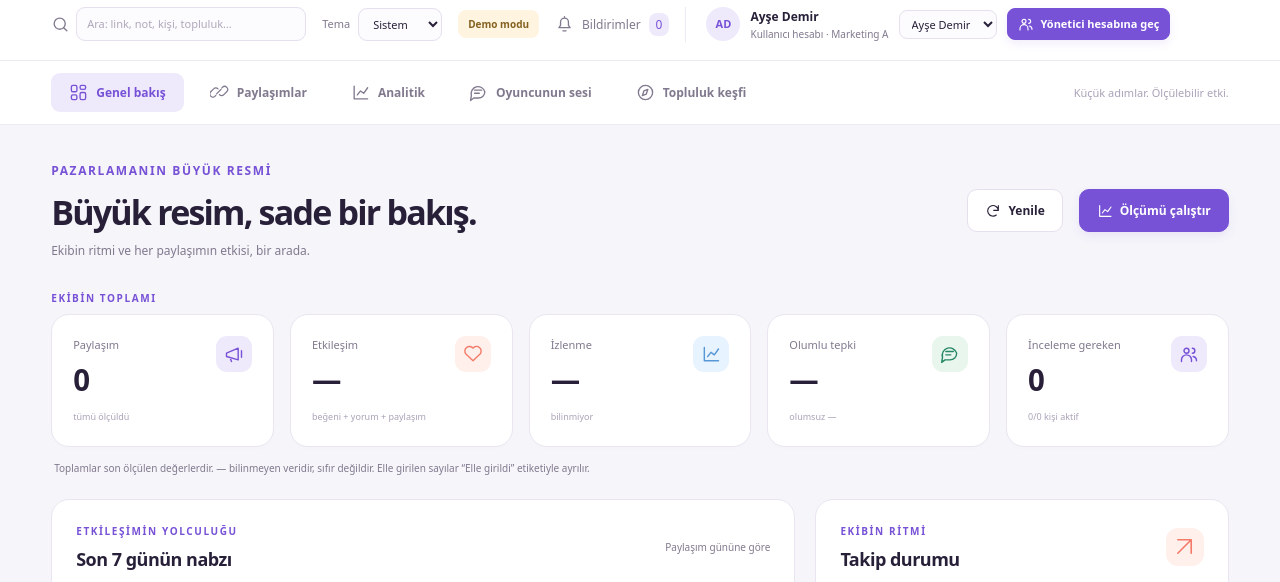
Test: master prompt features › shows a team manager the whole team in the user account
Select "Deniz Acar" in the dropdown named "Hesap" at (948, 24), box left=898, top=10, right=996, bottom=39
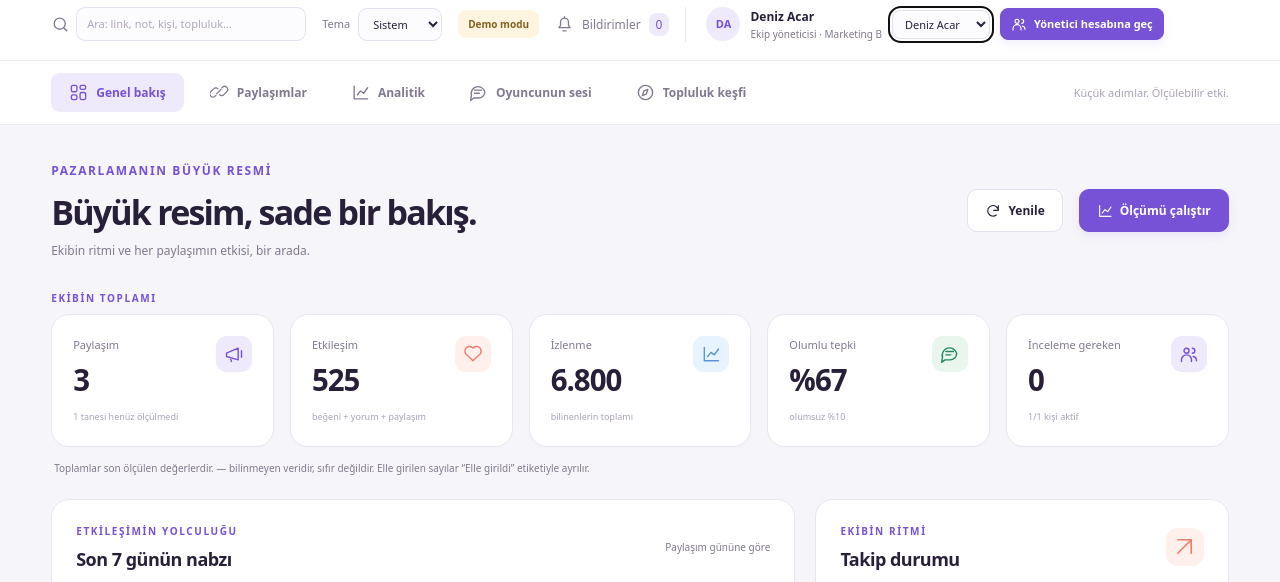
Expected: the text "Ekip yöneticisi · Marketing B" is shown, left=750, top=26, right=882, bottom=42
Click the button "Paylaşımlar".
click(258, 92)  # box left=192, top=73, right=325, bottom=112
(page scrolled)
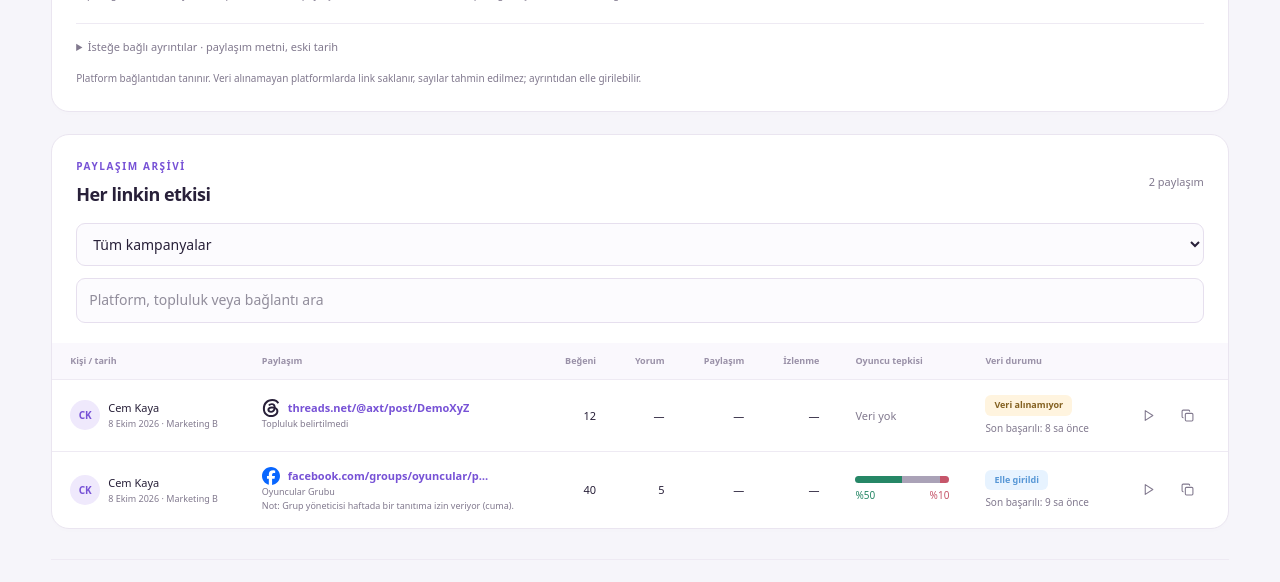
Expected: the text "Ayşe Demir" is not shown
Expected: the text "Cem Kaya" in the row of "threads.net/@axt/post/DemoXyZ" is shown, left=108, top=400, right=159, bottom=415
